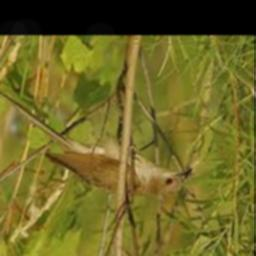Cuckoo: (0, 90, 192, 196)
